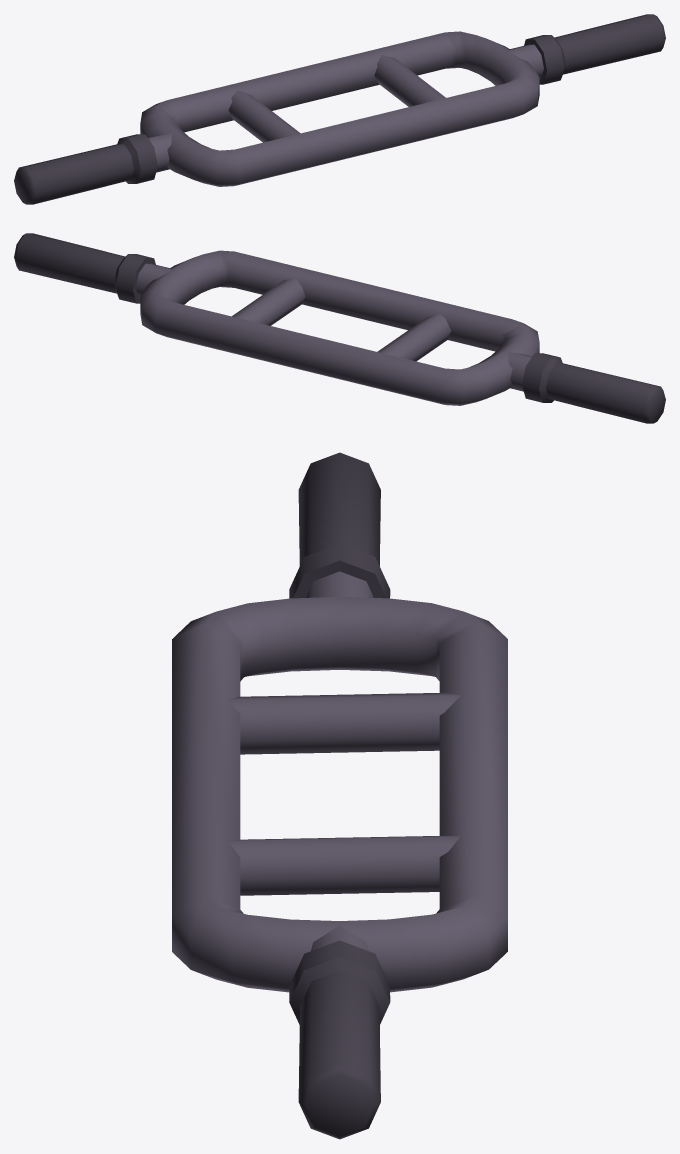
The model's file is Barbell_v02.fbx.
The picture shows the model from 3 angles, top to bottom: view 1: azimuth 30°, elevation 25°; view 2: azimuth 150°, elevation 25°; view 3: azimuth 270°, elevation 25°; orthographic projection. The views are drawn at different scales.
Parts seen in each view (by area): view 1: Barbell_v02; view 2: Barbell_v02; view 3: Barbell_v02.
Part boxes in pixels (left/top/right/bottom): Barbell_v02: left=14, top=14, right=665, bottom=204; Barbell_v02: left=14, top=233, right=665, bottom=423; Barbell_v02: left=172, top=452, right=507, bottom=1139.
Size of the model in its own units: 1.5 by 0.1029 by 0.3428.
1 material, 1 textured.
